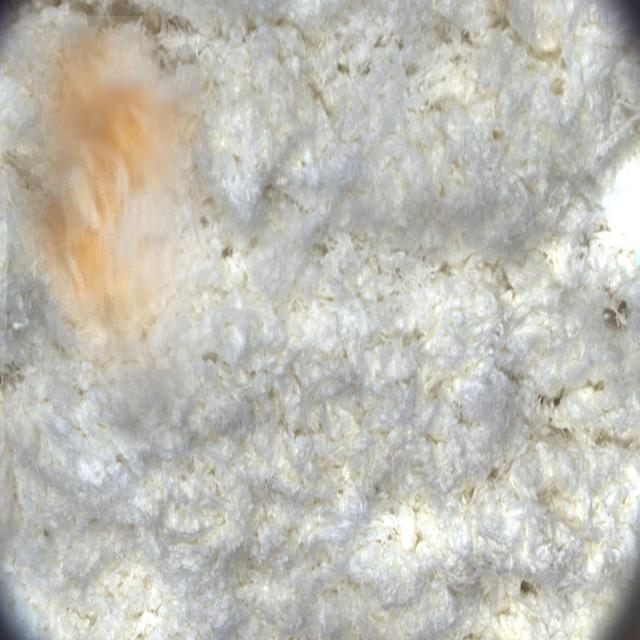dust: (7, 16, 221, 400)
